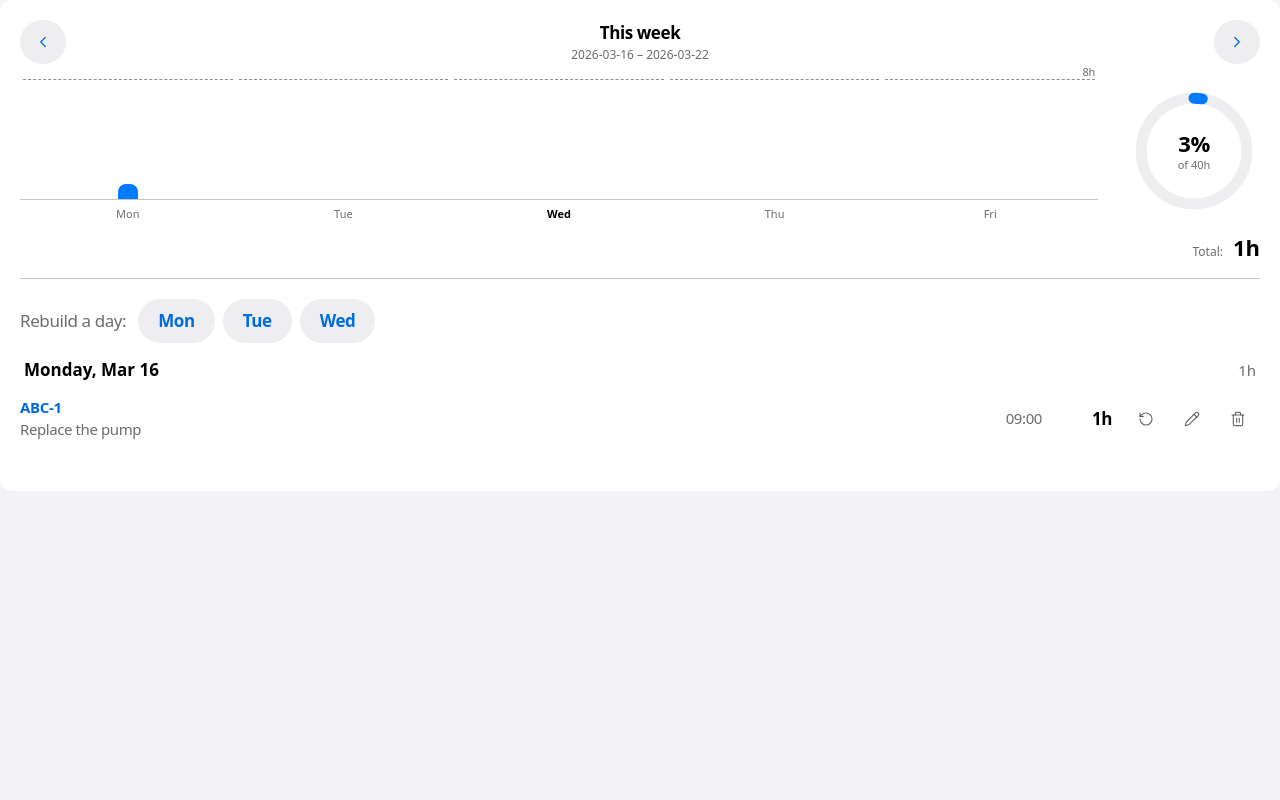
it: deleting a worklog › reports a delete Jira refused
Click the button titled "Delete" at (1238, 419), box top-left (1216, 397), bottom-right (1260, 441)
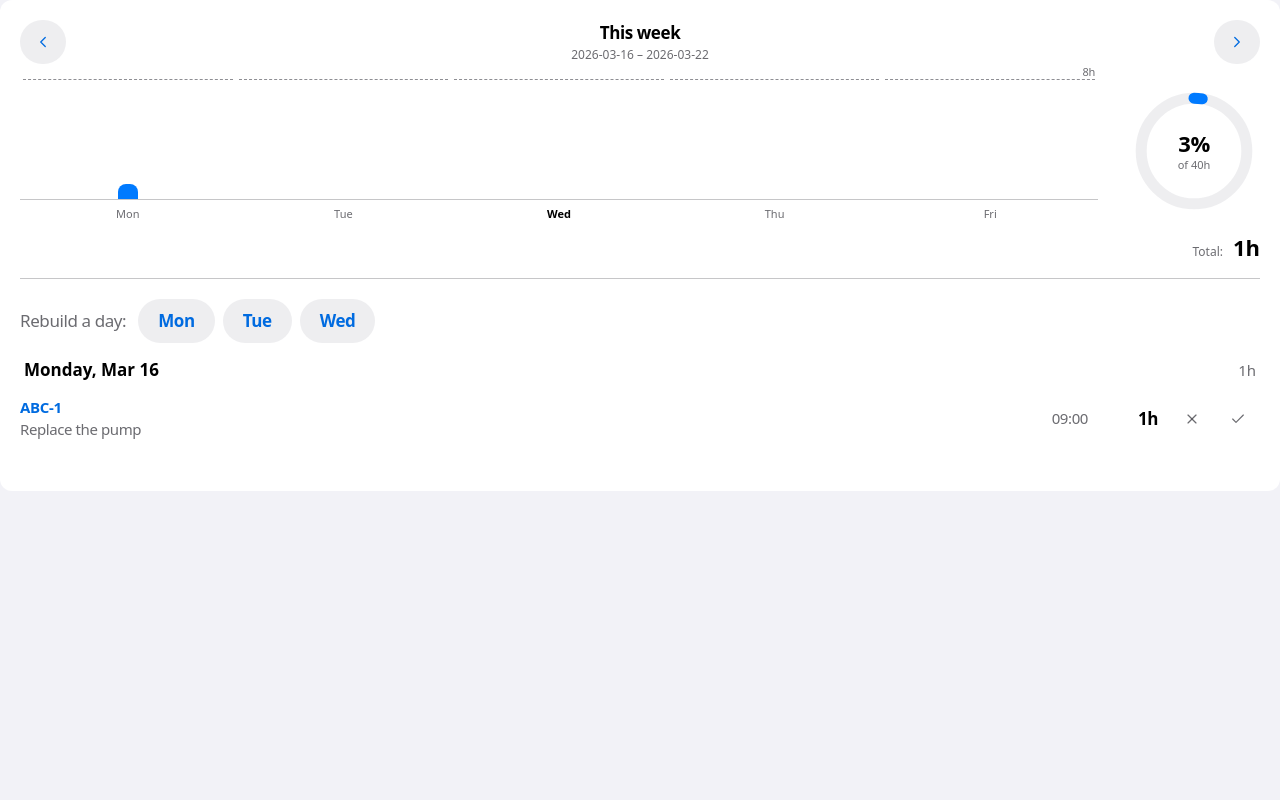
Click the button titled "Confirm delete" at (1238, 419), box top-left (1216, 397), bottom-right (1260, 441)
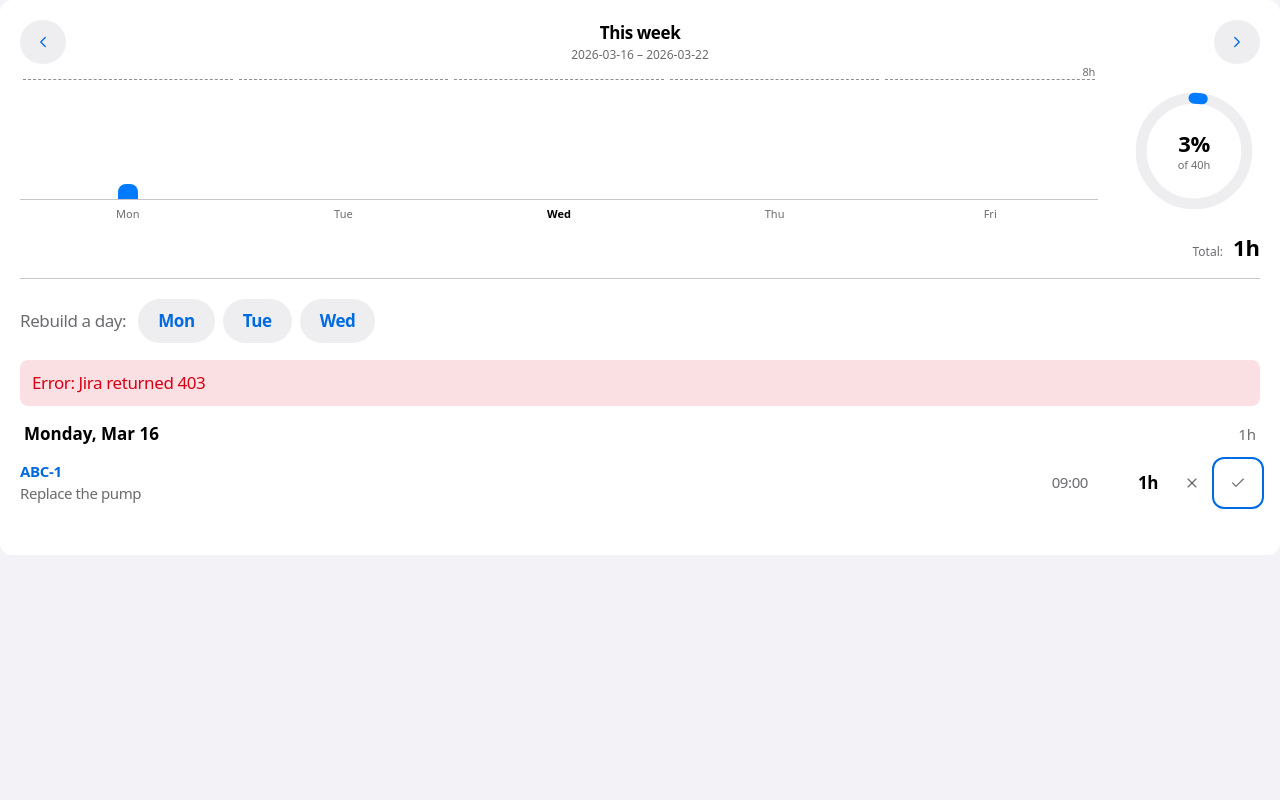
Check: the text "Error: Jira returned 403" is shown, box top-left (20, 360), bottom-right (1260, 406)
